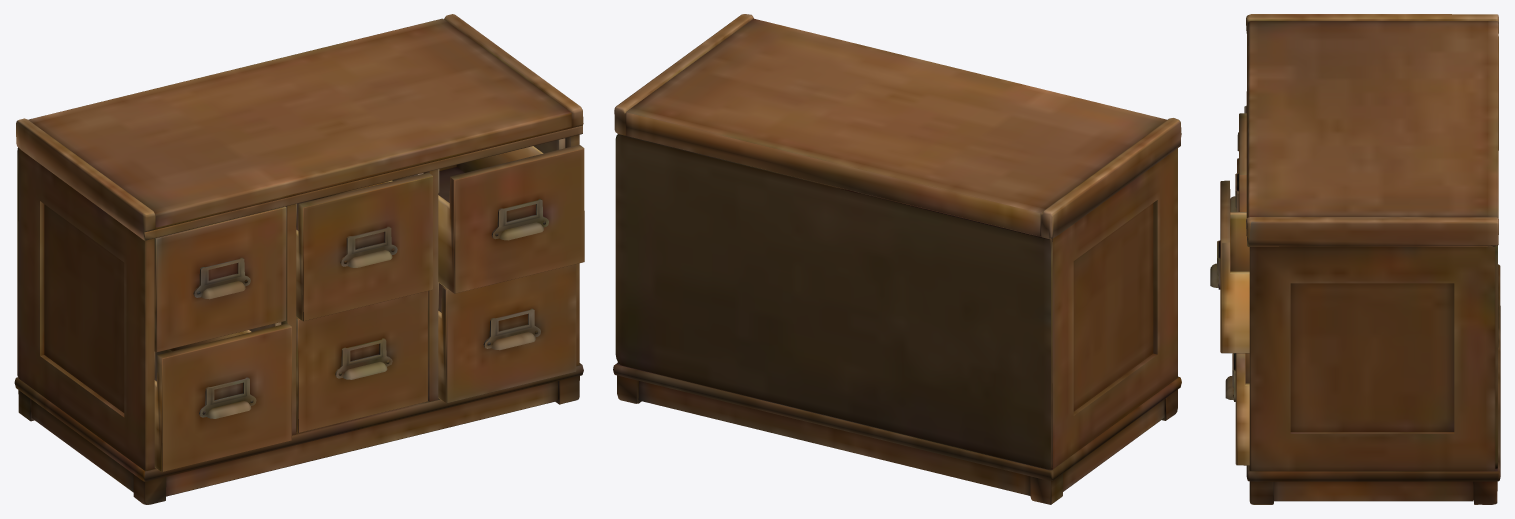
File: drawers.glb
3 renders of one model, left to right at view 1: azimuth 30°, elevation 25°; view 2: azimuth 150°, elevation 25°; view 3: azimuth 270°, elevation 25°, orthographic. The views are drawn at different scales.
Parts seen in each view (by area): view 1: vintage_wooden_drawer_01_body, vintage_wooden_drawer_01_drawer03, vintage_wooden_drawer_01_drawer04, vintage_wooden_drawer_01_drawer02, vintage_wooden_drawer_01_drawer01, vintage_wooden_drawer_01_drawer06, vintage_wooden_drawer_01_drawer05; view 2: vintage_wooden_drawer_01_body; view 3: vintage_wooden_drawer_01_body, vintage_wooden_drawer_01_drawer03, vintage_wooden_drawer_01_drawer06, vintage_wooden_drawer_01_drawer02.
Part boxes in pixels (bbox=[...]): vintage_wooden_drawer_01_body: bbox=[14, 14, 583, 504]; vintage_wooden_drawer_01_drawer03: bbox=[438, 144, 584, 293]; vintage_wooden_drawer_01_drawer04: bbox=[154, 323, 291, 472]; vintage_wooden_drawer_01_drawer02: bbox=[296, 172, 432, 321]; vintage_wooden_drawer_01_drawer01: bbox=[154, 206, 286, 352]; vintage_wooden_drawer_01_drawer06: bbox=[438, 264, 576, 403]; vintage_wooden_drawer_01_drawer05: bbox=[296, 291, 427, 432]; vintage_wooden_drawer_01_body: bbox=[613, 14, 1181, 504]; vintage_wooden_drawer_01_body: bbox=[1246, 14, 1500, 504]; vintage_wooden_drawer_01_drawer03: bbox=[1210, 180, 1249, 353]; vintage_wooden_drawer_01_drawer06: bbox=[1225, 353, 1249, 465]; vintage_wooden_drawer_01_drawer02: bbox=[1230, 113, 1246, 211].
Size of the model in its own units: 1.72 by 1.09 by 1.01.
Materials: 1 (1 with a texture image).
